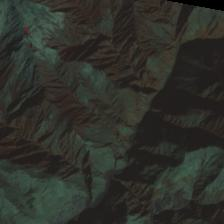landslides: (12, 60, 31, 99), (0, 28, 21, 53)
